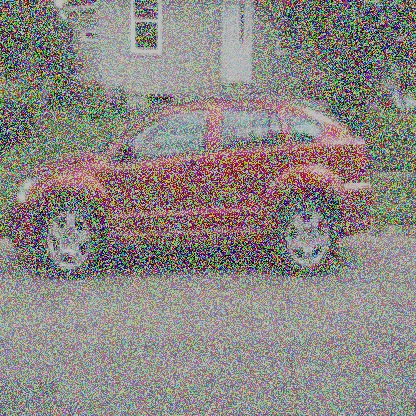Vehicle: (16, 94, 378, 283)
